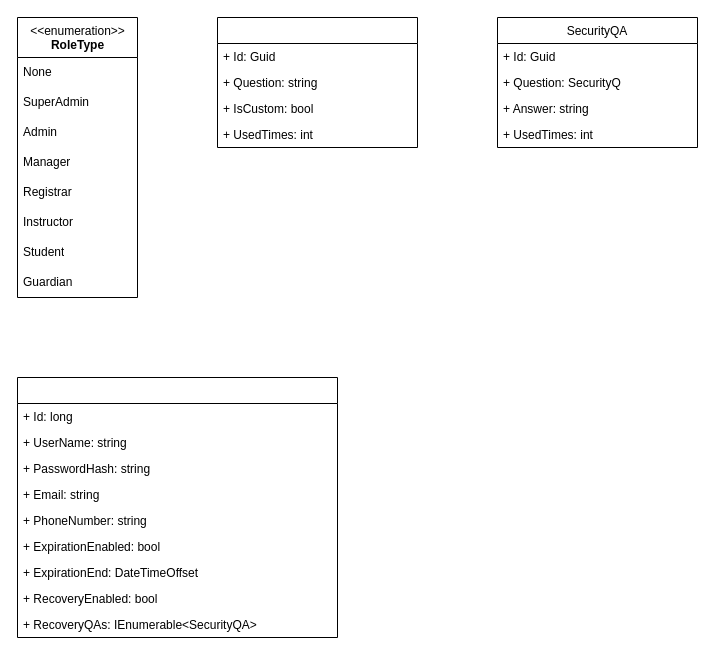
The diagram is 715 pixels wide and 658 high, and some of its shapes have lost their labels. The shapes that lost their labels are listed below. From the top down, each one's box as (x1, y1, x2, y2) in pixels, then its label:
(216, 16, 418, 148): SecurityQ
(16, 376, 338, 638): ApplicationUser
